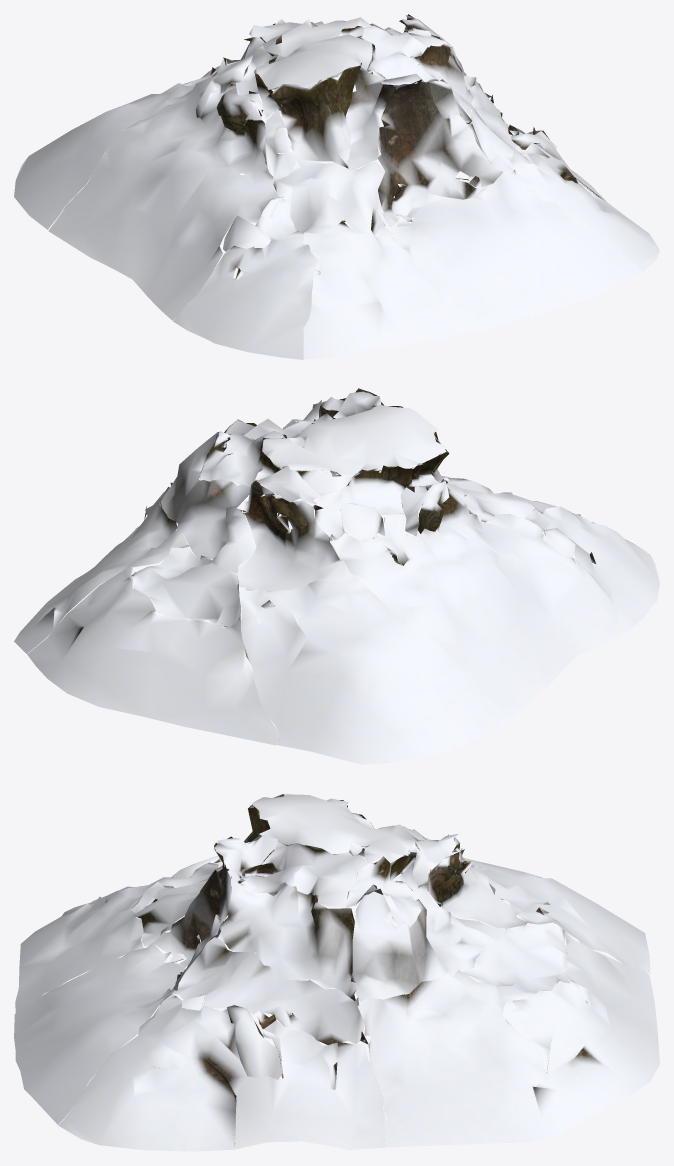
The model's file is tree_stump_01.glb.
3 views of the same model, one above another, from view 1: azimuth 30°, elevation 25°; view 2: azimuth 150°, elevation 25°; view 3: azimuth 270°, elevation 25° (orthographic). The views are drawn at different scales.
Parts seen in each view (by area): view 1: tree_stump_01; view 2: tree_stump_01; view 3: tree_stump_01.
Part boxes in pixels (x1,y1,x2,y2): tree_stump_01: (14, 14, 659, 359); tree_stump_01: (14, 388, 659, 764); tree_stump_01: (14, 793, 659, 1151).
Size of the model in its own units: 1.42 by 0.571 by 1.59.
Materials: 1 (1 with a texture image).
